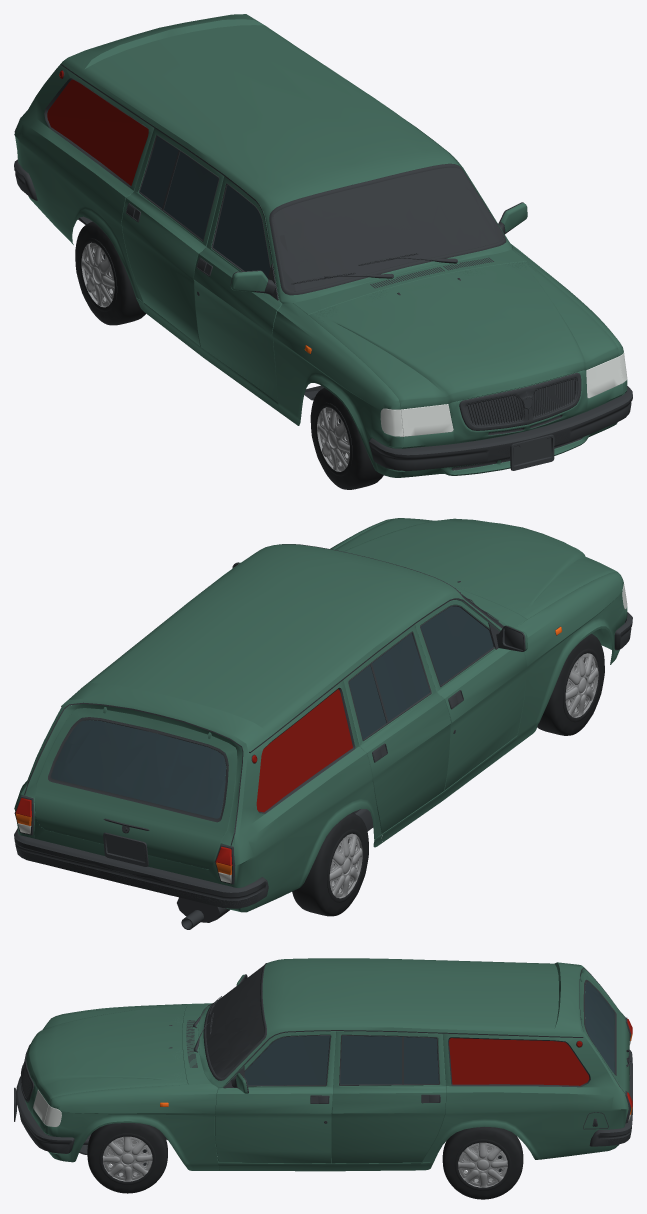
Rendered from gaz31022.glb.
3 renders of one model, top to bottom at view 1: azimuth 30°, elevation 25°; view 2: azimuth 150°, elevation 25°; view 3: azimuth 270°, elevation 25°, orthographic. The views are drawn at different scales.
Visible parts, largest first — view 1: chassisbody, chassis_trim, glass, taillights, wheel_rr, wheel_fr, headlights, interior; view 2: chassisbody, glass, chassis_trim, taillights, wheel_rr, wheel_fr; view 3: chassisbody, chassis_trim, glass, taillights, wheel_rl, wheel_fl, headlights.
Part boxes in pixels (x1,y1,x2,y2): chassisbody: [14, 14, 627, 477]; chassis_trim: [14, 64, 632, 470]; glass: [140, 136, 269, 277]; taillights: [47, 70, 148, 185]; wheel_rr: [75, 221, 145, 325]; wheel_fr: [310, 388, 383, 489]; headlights: [380, 352, 627, 436]; interior: [294, 291, 575, 424]; chassisbody: [14, 518, 627, 912]; glass: [51, 606, 493, 818]; chassis_trim: [14, 544, 632, 929]; taillights: [252, 689, 352, 812]; wheel_rr: [292, 813, 368, 916]; wheel_fr: [537, 633, 604, 735]; chassisbody: [25, 958, 629, 1171]; chassis_trim: [14, 963, 632, 1153]; glass: [244, 982, 614, 1085]; taillights: [449, 1038, 589, 1085]; wheel_rl: [442, 1127, 523, 1199]; wheel_fl: [87, 1123, 167, 1193]; headlights: [33, 1089, 61, 1127].
Bounding box in the file's own units: 2.16 × 1.59 × 5.2.
